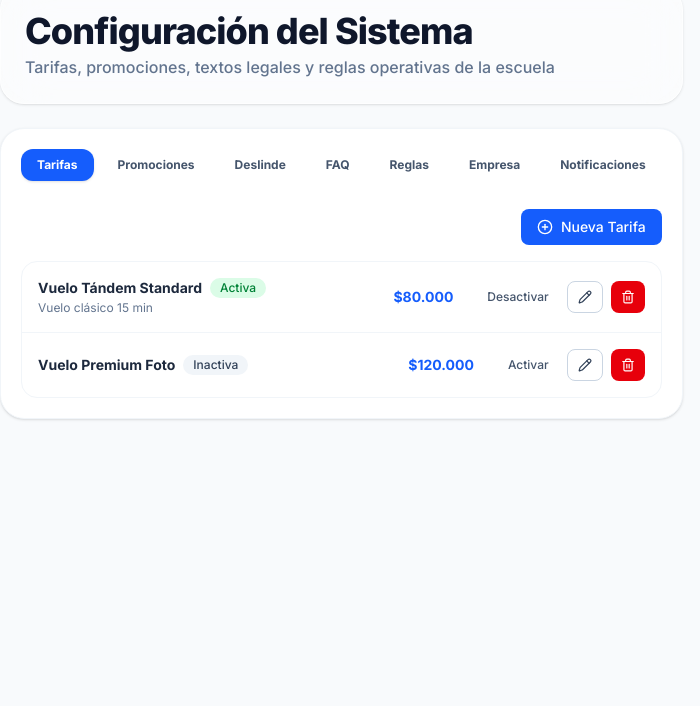
Test: Página de Configuración (/configuracion) › 3. Cambia entre pestañas y muestra contenido propio de cada una
Click the button "Deslinde" at (260, 165), box x1=219 y1=149 x2=302 y2=181
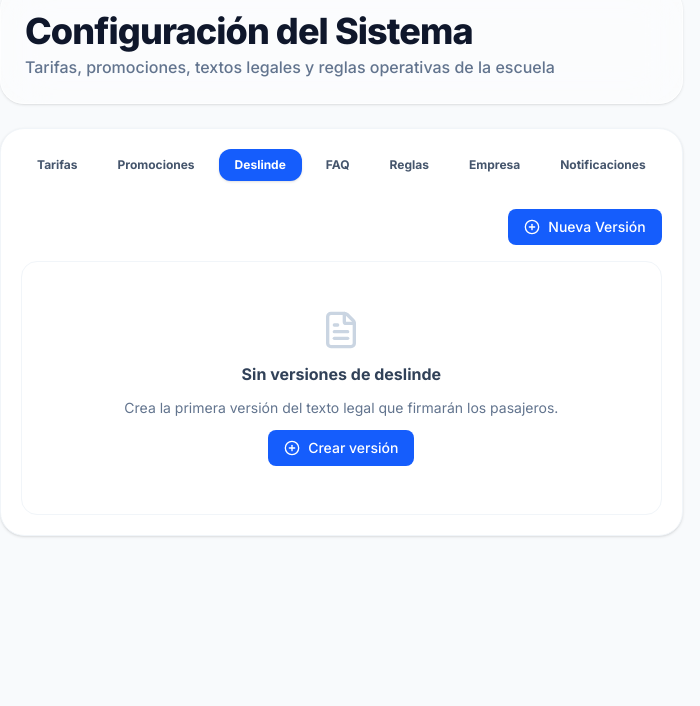
Now the heading "Sin versiones de deslinde" is shown, box x1=242 y1=364 x2=441 y2=384
Click the button "FAQ" at (338, 165), box x1=310 y1=149 x2=366 y2=181
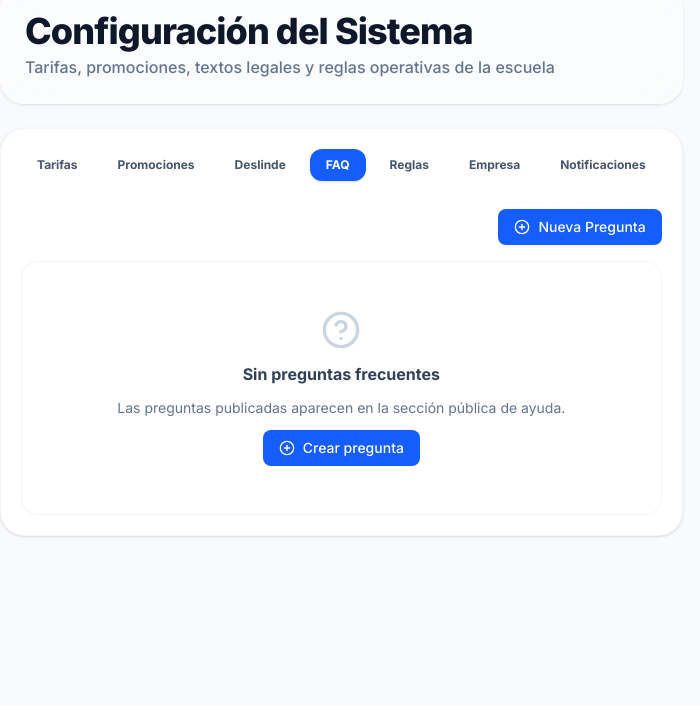
Now the heading "Sin preguntas frecuentes" is shown, box x1=243 y1=364 x2=440 y2=384
Click the button "Reglas" at (409, 165), box x1=374 y1=149 x2=445 y2=181
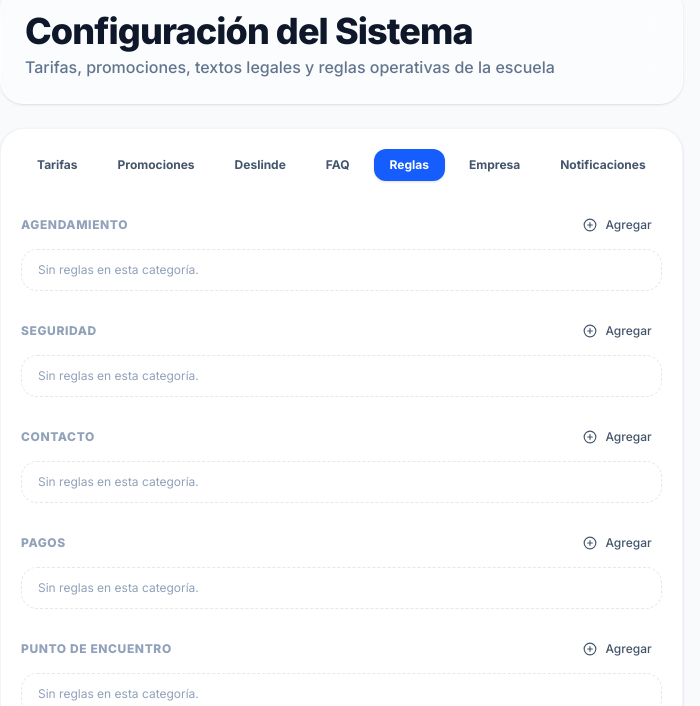
Now the heading "Agendamiento" is shown, box x1=21 y1=217 x2=128 y2=233
Note: Volver a Tarifas sigue mostrando los datos (cache de TanStack Query)
Click the button "Tarifas" at (57, 165), box x1=21 y1=149 x2=94 y2=181
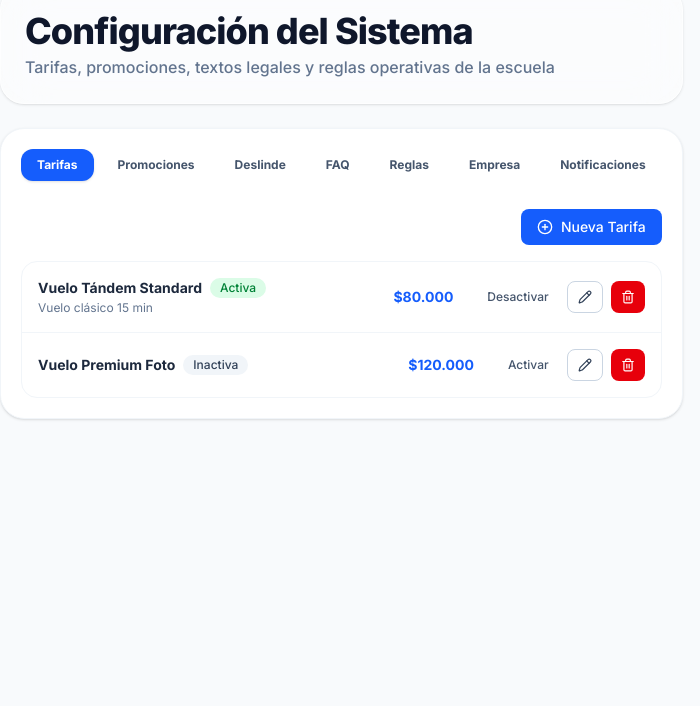
Now the text "Vuelo Tándem Standard" is shown, box x1=38 y1=278 x2=202 y2=298
